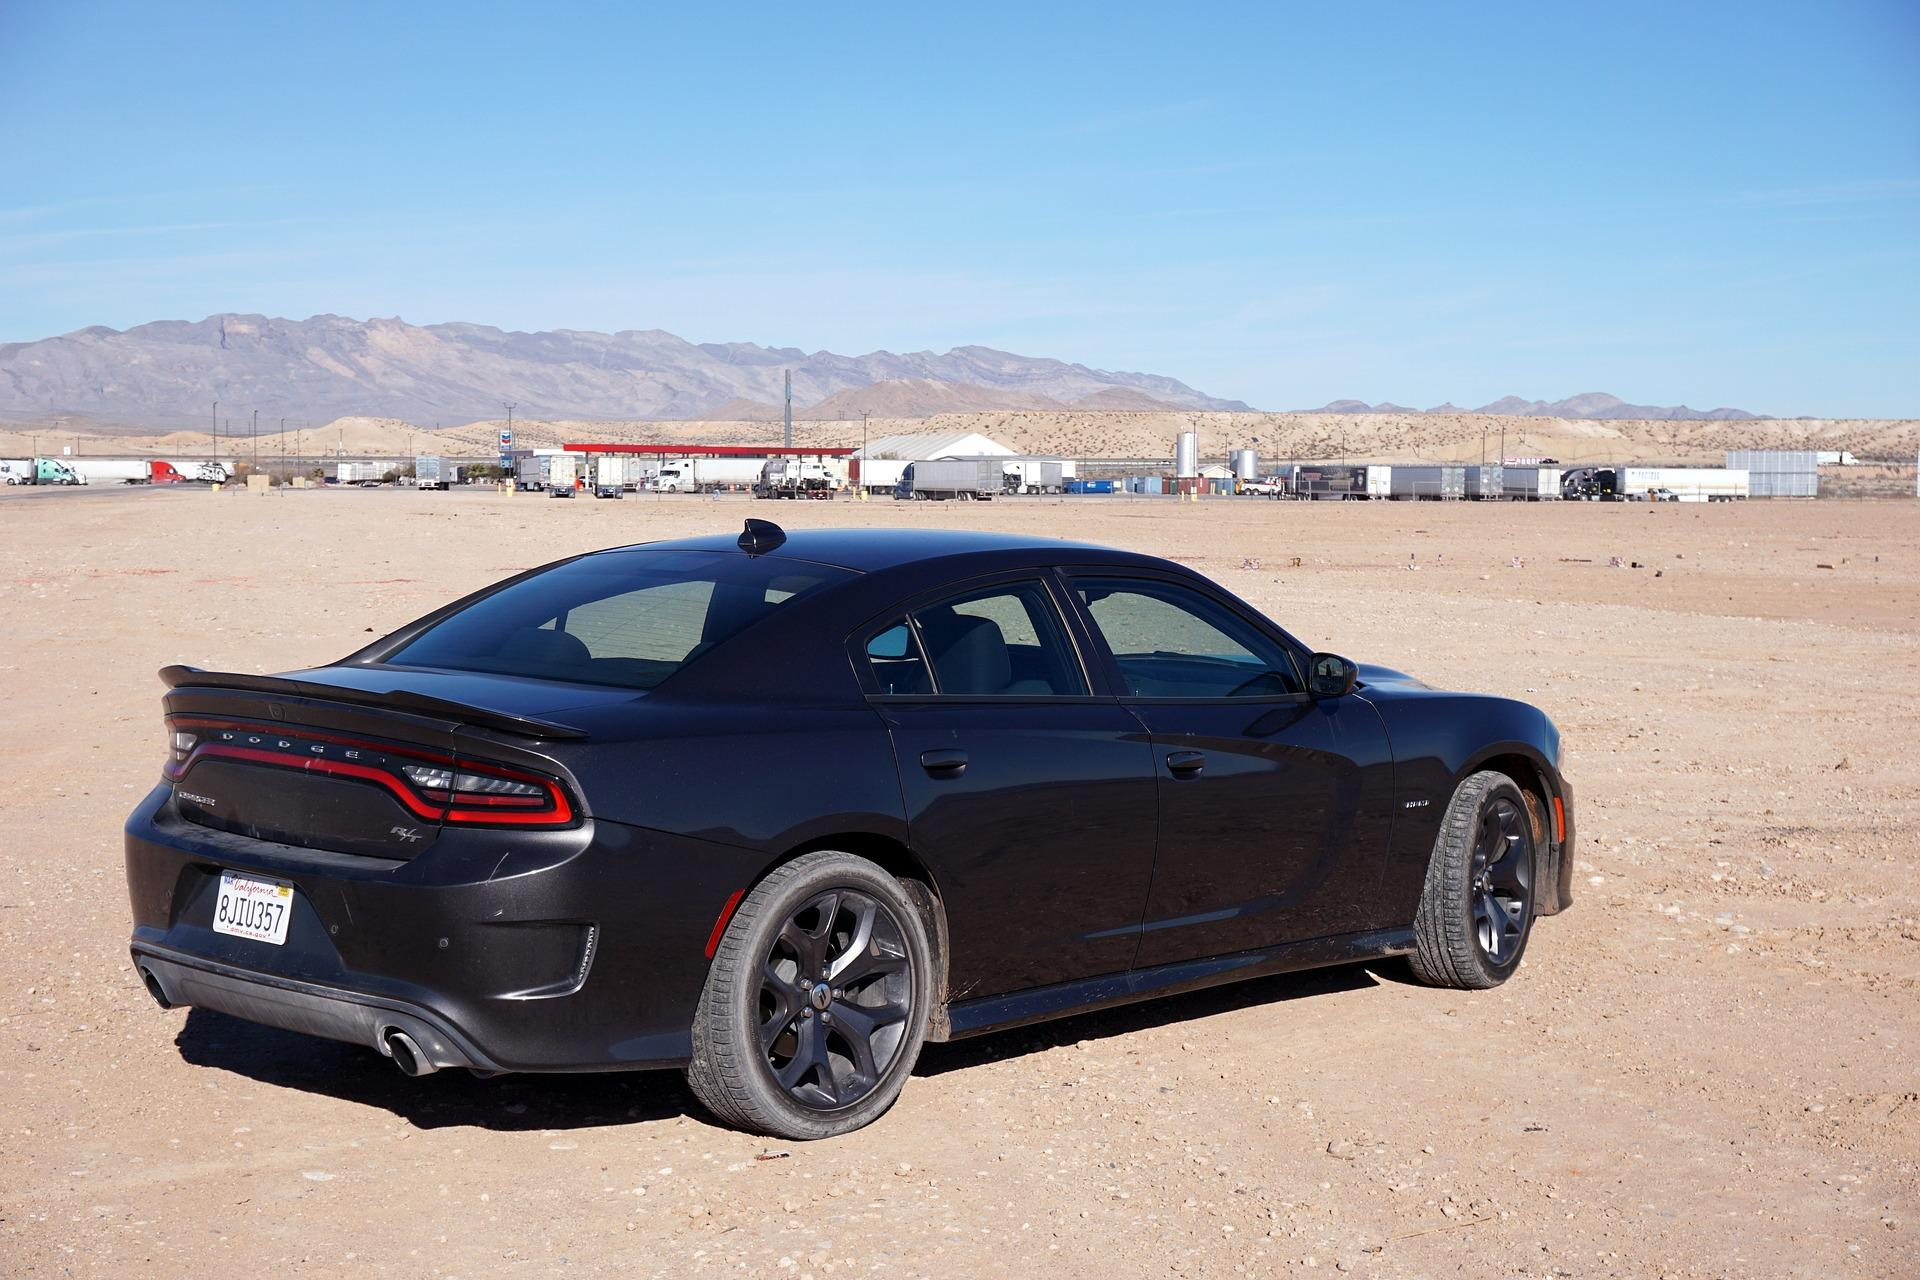dodge: (209, 716, 379, 786)
